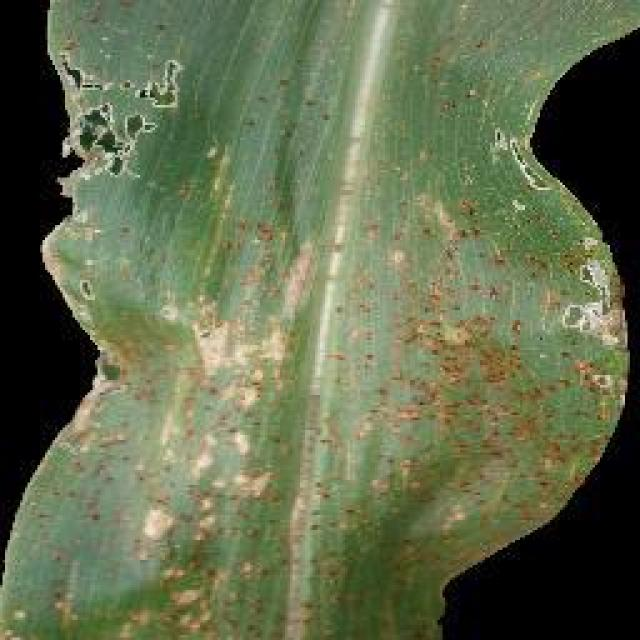Corn Common Rust: (60, 156, 611, 640)
